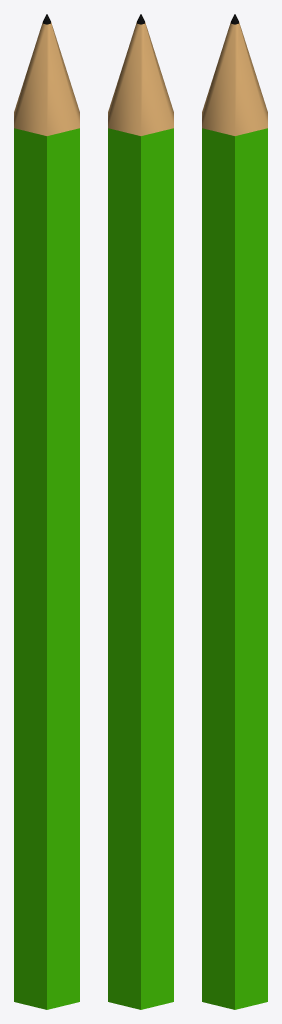
The model's file is Pencil.FBX.
3 renders of one model, left to right at view 1: azimuth 90°, elevation 25°; view 2: azimuth 210°, elevation 25°; view 3: azimuth 270°, elevation 25°, orthographic.
Parts seen in each view (by area): view 1: Pencil; view 2: Pencil; view 3: Pencil.
Boxes of the visible parts, x1=… form: Pencil: x1=14, y1=14, x2=79, y2=1009; Pencil: x1=108, y1=14, x2=173, y2=1009; Pencil: x1=202, y1=14, x2=267, y2=1009.
Size of the model in its own units: 0.6103 by 8.67 by 0.5285.
